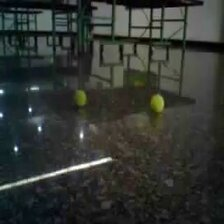tennis: (149, 93, 165, 113), (72, 89, 88, 107)
